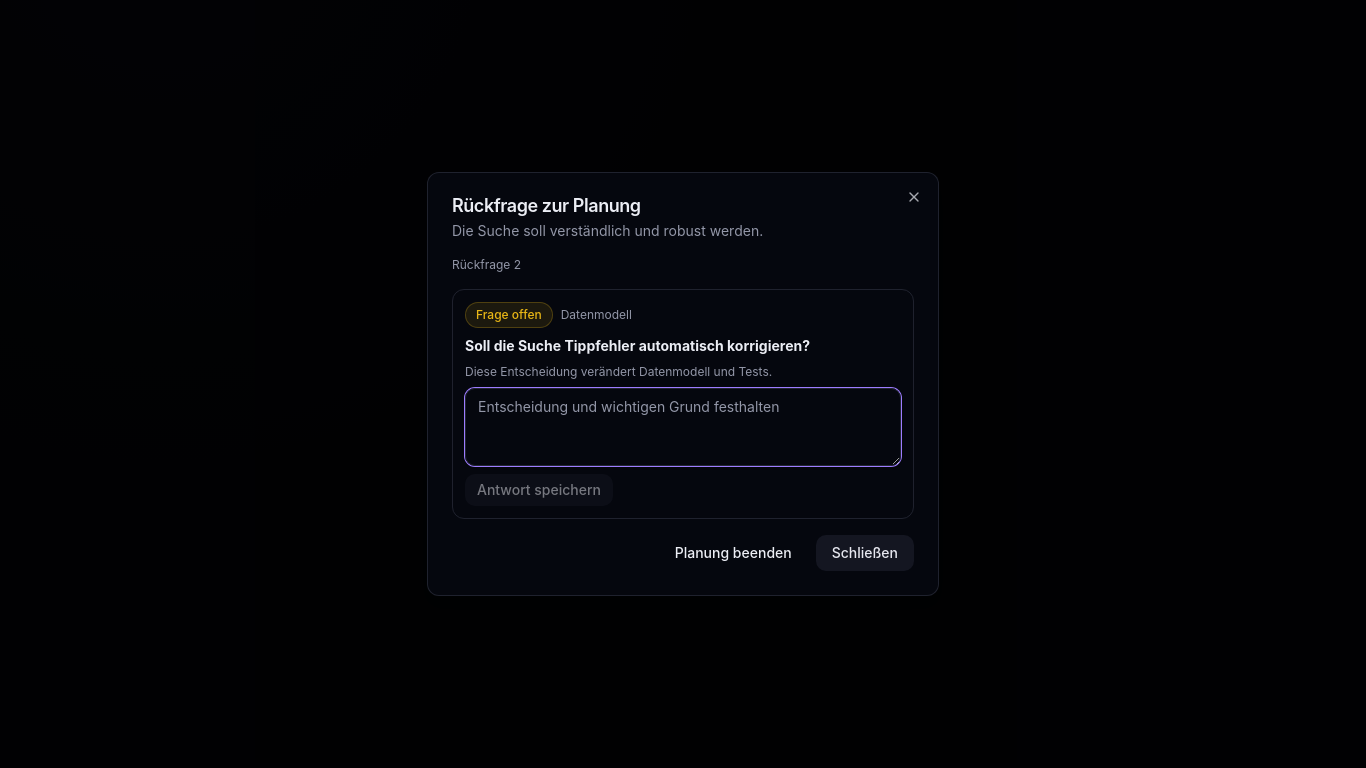
Scenario: speichert die Antwort und setzt die Planung sofort verständlich fort
The width and height of the screenshot is (1366, 768).
Type "Ja, aber nur bei eindeutigen Treffern." into the text box named "Antwort auf: Soll die Suche Tippfehler automatisch korrigieren?" at (683, 427), box [465,388,901,466]
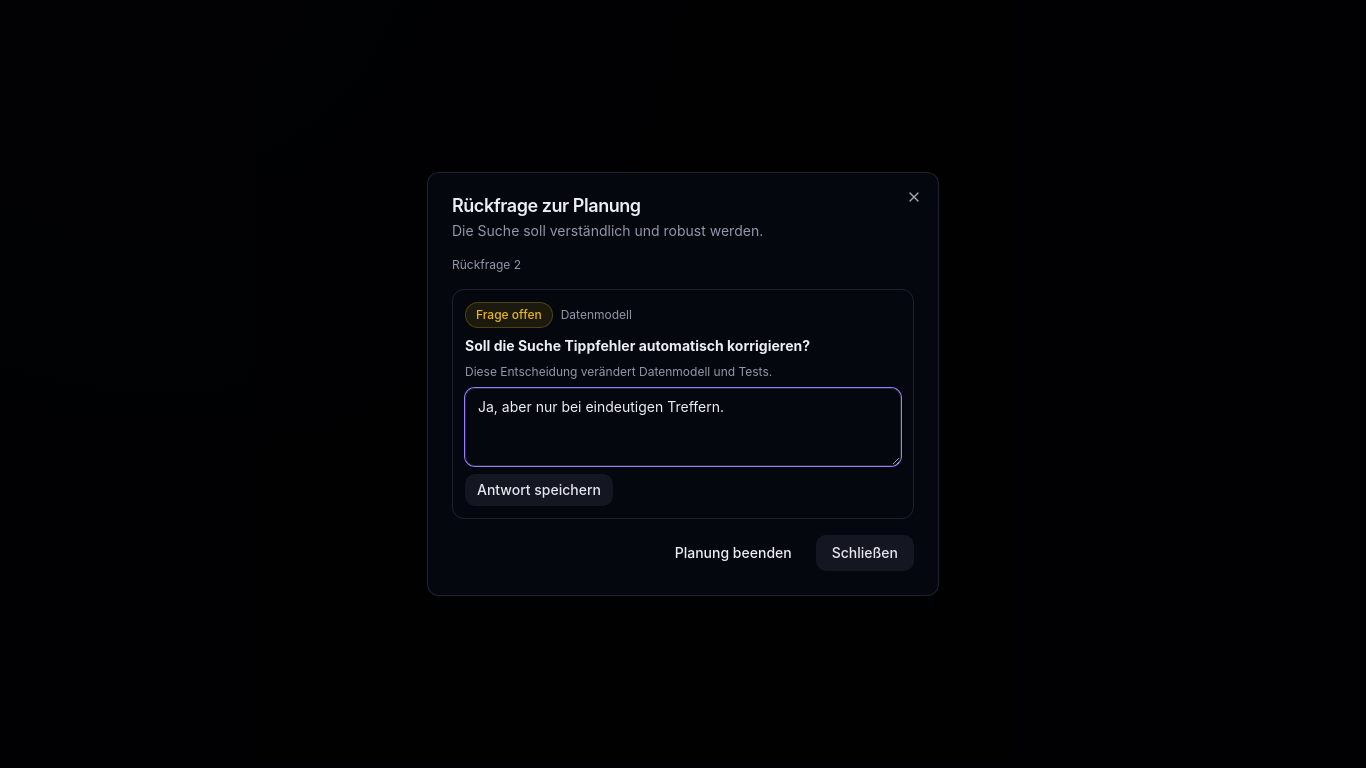
Click the button "Antwort speichern" at (539, 490), box [465,474,613,506]
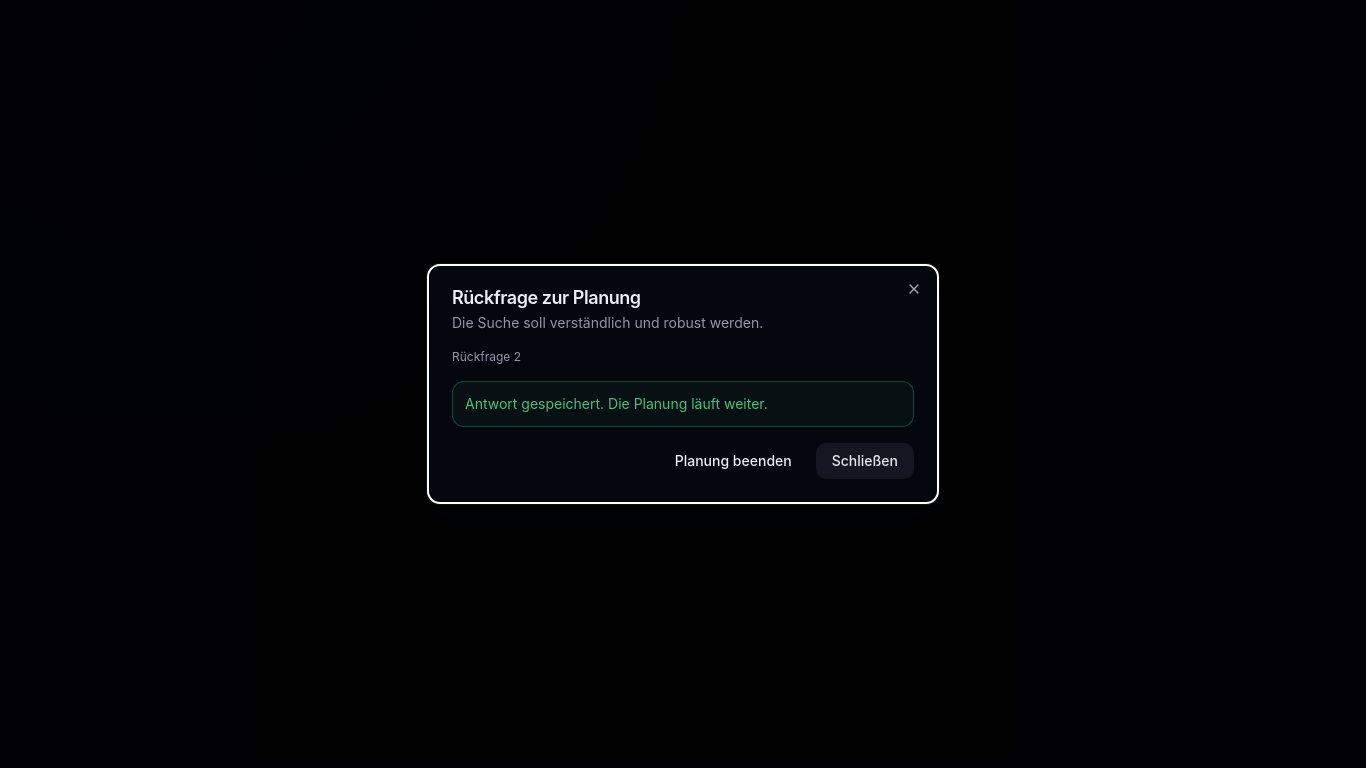
Expected: the text "Antwort gespeichert. Die Planung läuft weiter." is shown, [452,381,914,427]
